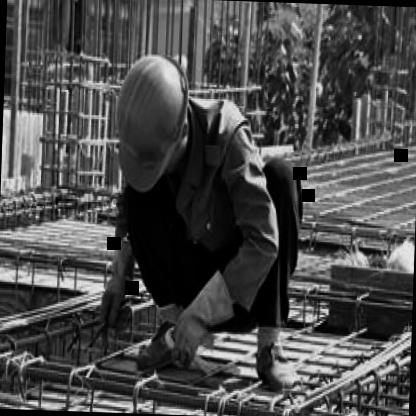helmet: (106, 36, 200, 202)
